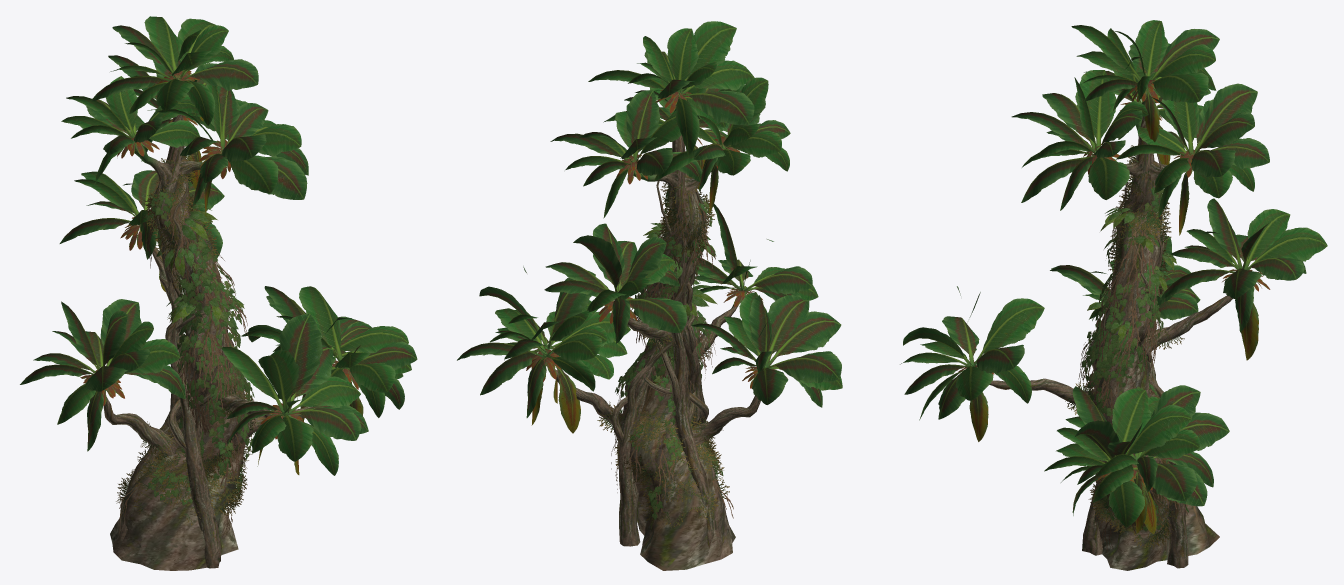
Rendered from Plant - Alien Plant 06 1-CU1KhA8v.glb.
The picture shows the model from 3 angles, left to right: view 1: azimuth 30°, elevation 25°; view 2: azimuth 150°, elevation 25°; view 3: azimuth 270°, elevation 25°; orthographic projection. The views are drawn at different scales.
Visible parts, largest first — view 1: Plant6_1_L0(Clone), Plant6_moss_1_L0(Clone); view 2: Plant6_1_L0(Clone), Plant6_moss_1_L0(Clone); view 3: Plant6_1_L0(Clone), Plant6_moss_1_L0(Clone).
Boxes of the visible parts, x1,y1,x2,y2 form: Plant6_1_L0(Clone): (20, 16, 417, 570); Plant6_moss_1_L0(Clone): (116, 146, 262, 541); Plant6_1_L0(Clone): (457, 21, 842, 570); Plant6_moss_1_L0(Clone): (597, 175, 733, 528); Plant6_1_L0(Clone): (900, 20, 1327, 570); Plant6_moss_1_L0(Clone): (1064, 145, 1192, 552).
Size of the model in its own units: 7.23 by 9.34 by 7.18.
Materials: 4 (4 with a texture image).
